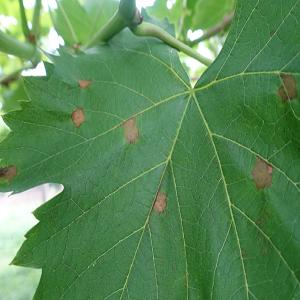Folha: (1, 0, 299, 299)
Fungo: (250, 154, 274, 190), (277, 72, 297, 104), (122, 116, 139, 144), (153, 188, 167, 216), (70, 104, 86, 128), (0, 164, 18, 184), (276, 84, 288, 104), (131, 7, 143, 26), (77, 77, 92, 89), (26, 32, 36, 44), (73, 40, 81, 54), (267, 163, 273, 175), (240, 247, 246, 258), (256, 217, 261, 225), (257, 230, 261, 238)
